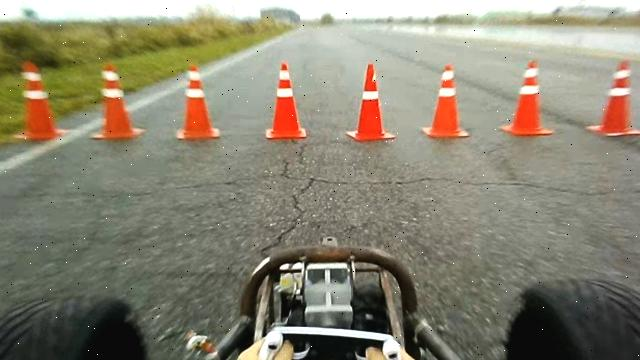red cone: (90, 61, 146, 140), (584, 59, 640, 137), (13, 59, 66, 141), (497, 59, 551, 136), (346, 62, 396, 142), (420, 63, 470, 138), (176, 63, 220, 140), (265, 62, 307, 140)
